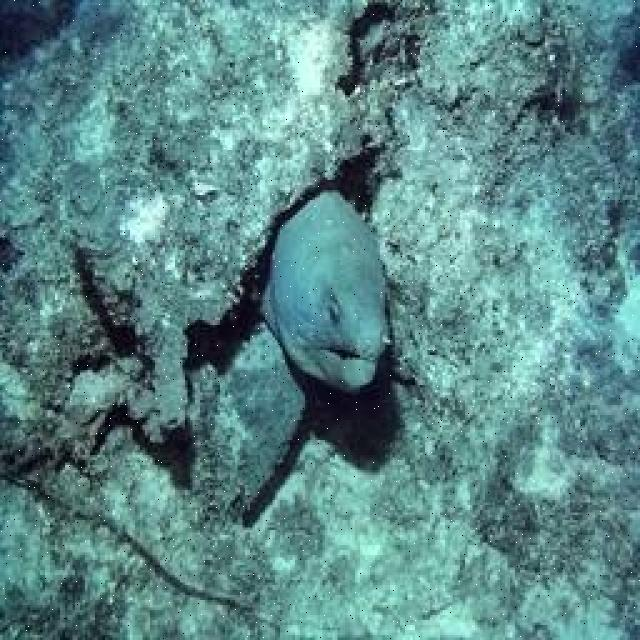fish: (262, 181, 392, 395)
